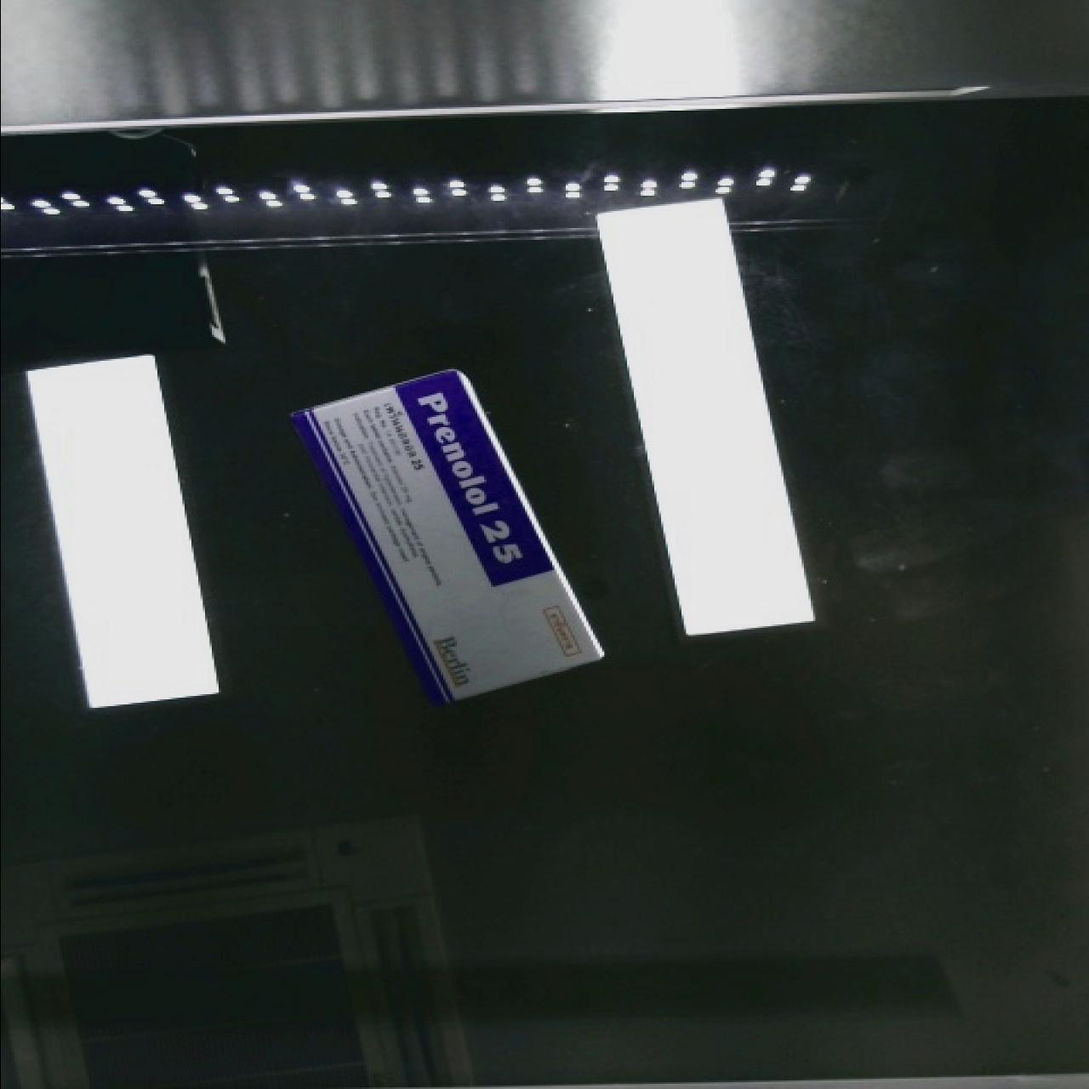medicine_label_obb: (390, 361, 553, 597)
